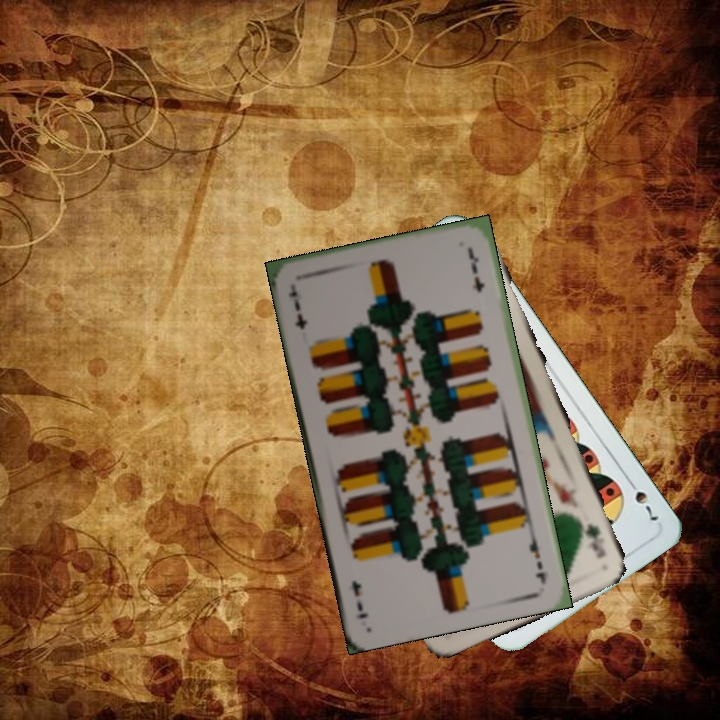E7: (525, 527, 549, 586), (284, 282, 310, 333)
GK: (574, 509, 609, 561)
S7: (623, 473, 662, 524)
